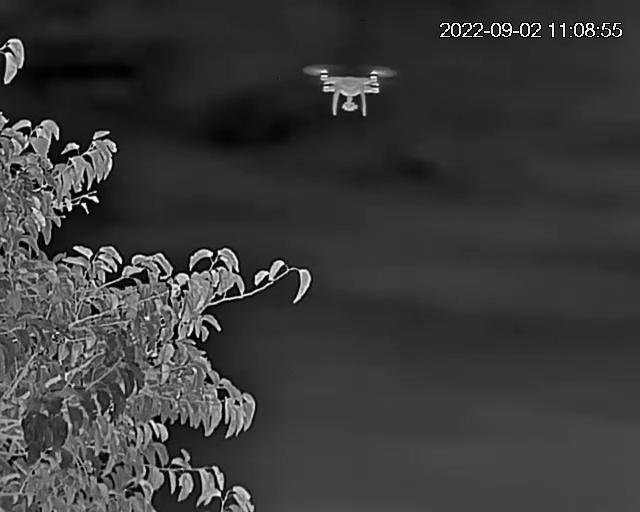DJI-Phantom: (306, 61, 394, 118)
